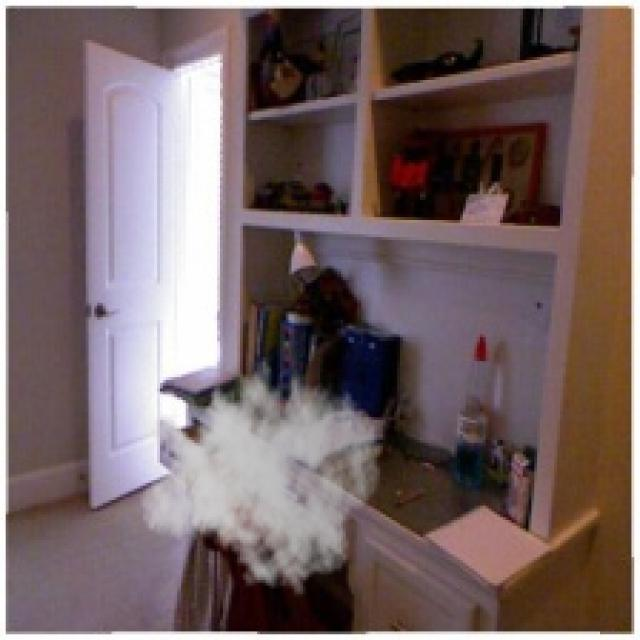smoke: (140, 343, 383, 597)
